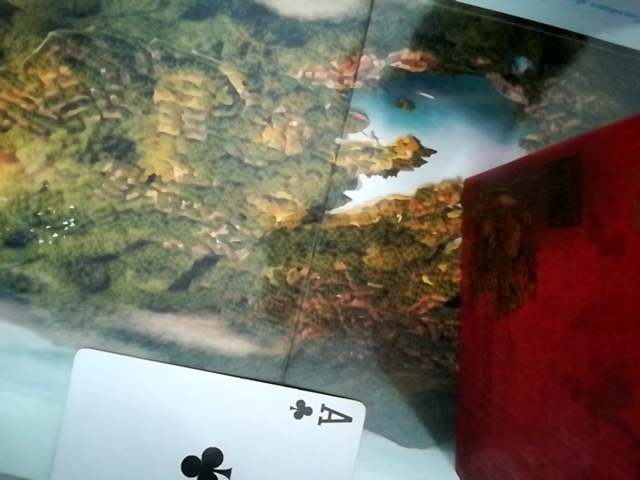mh a: (65, 345, 379, 480)
